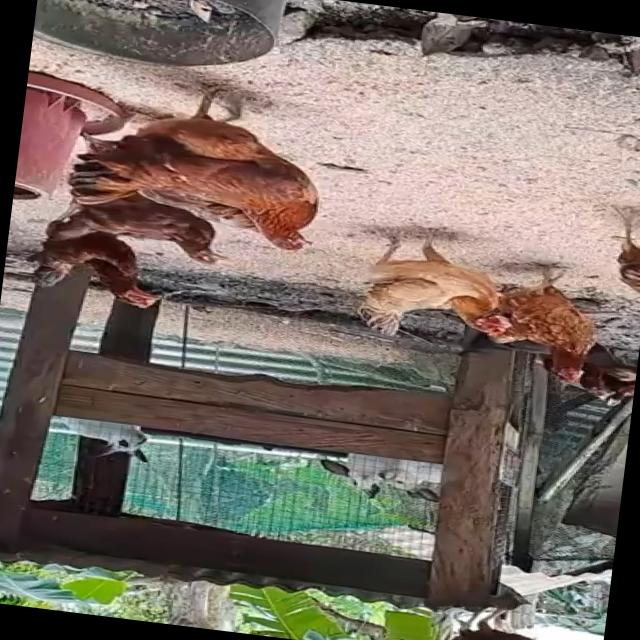running: (318, 218, 521, 354), (482, 251, 630, 401)
